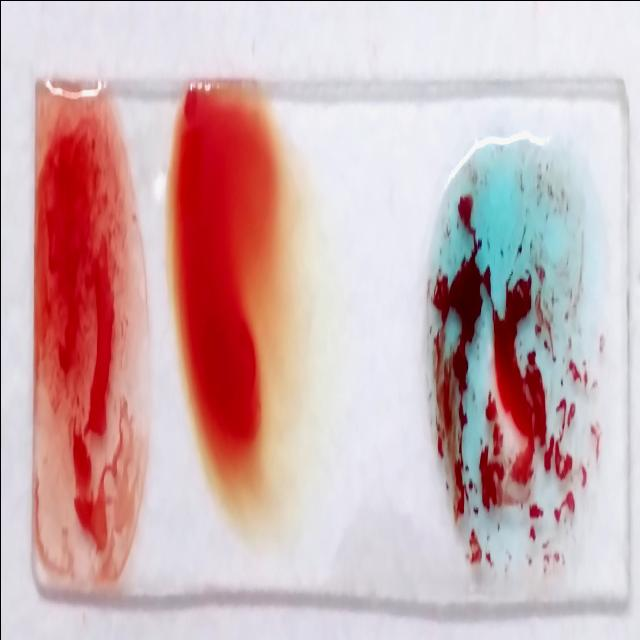A: (430, 143, 600, 584)
D: (33, 81, 148, 596)
